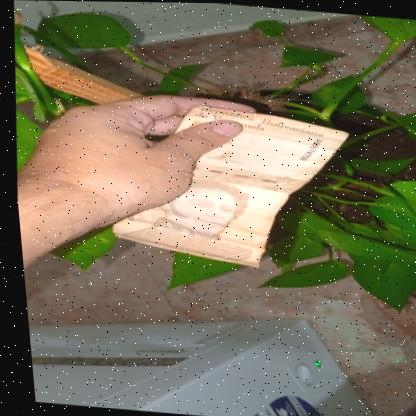five-front-vef: (96, 96, 359, 275)
